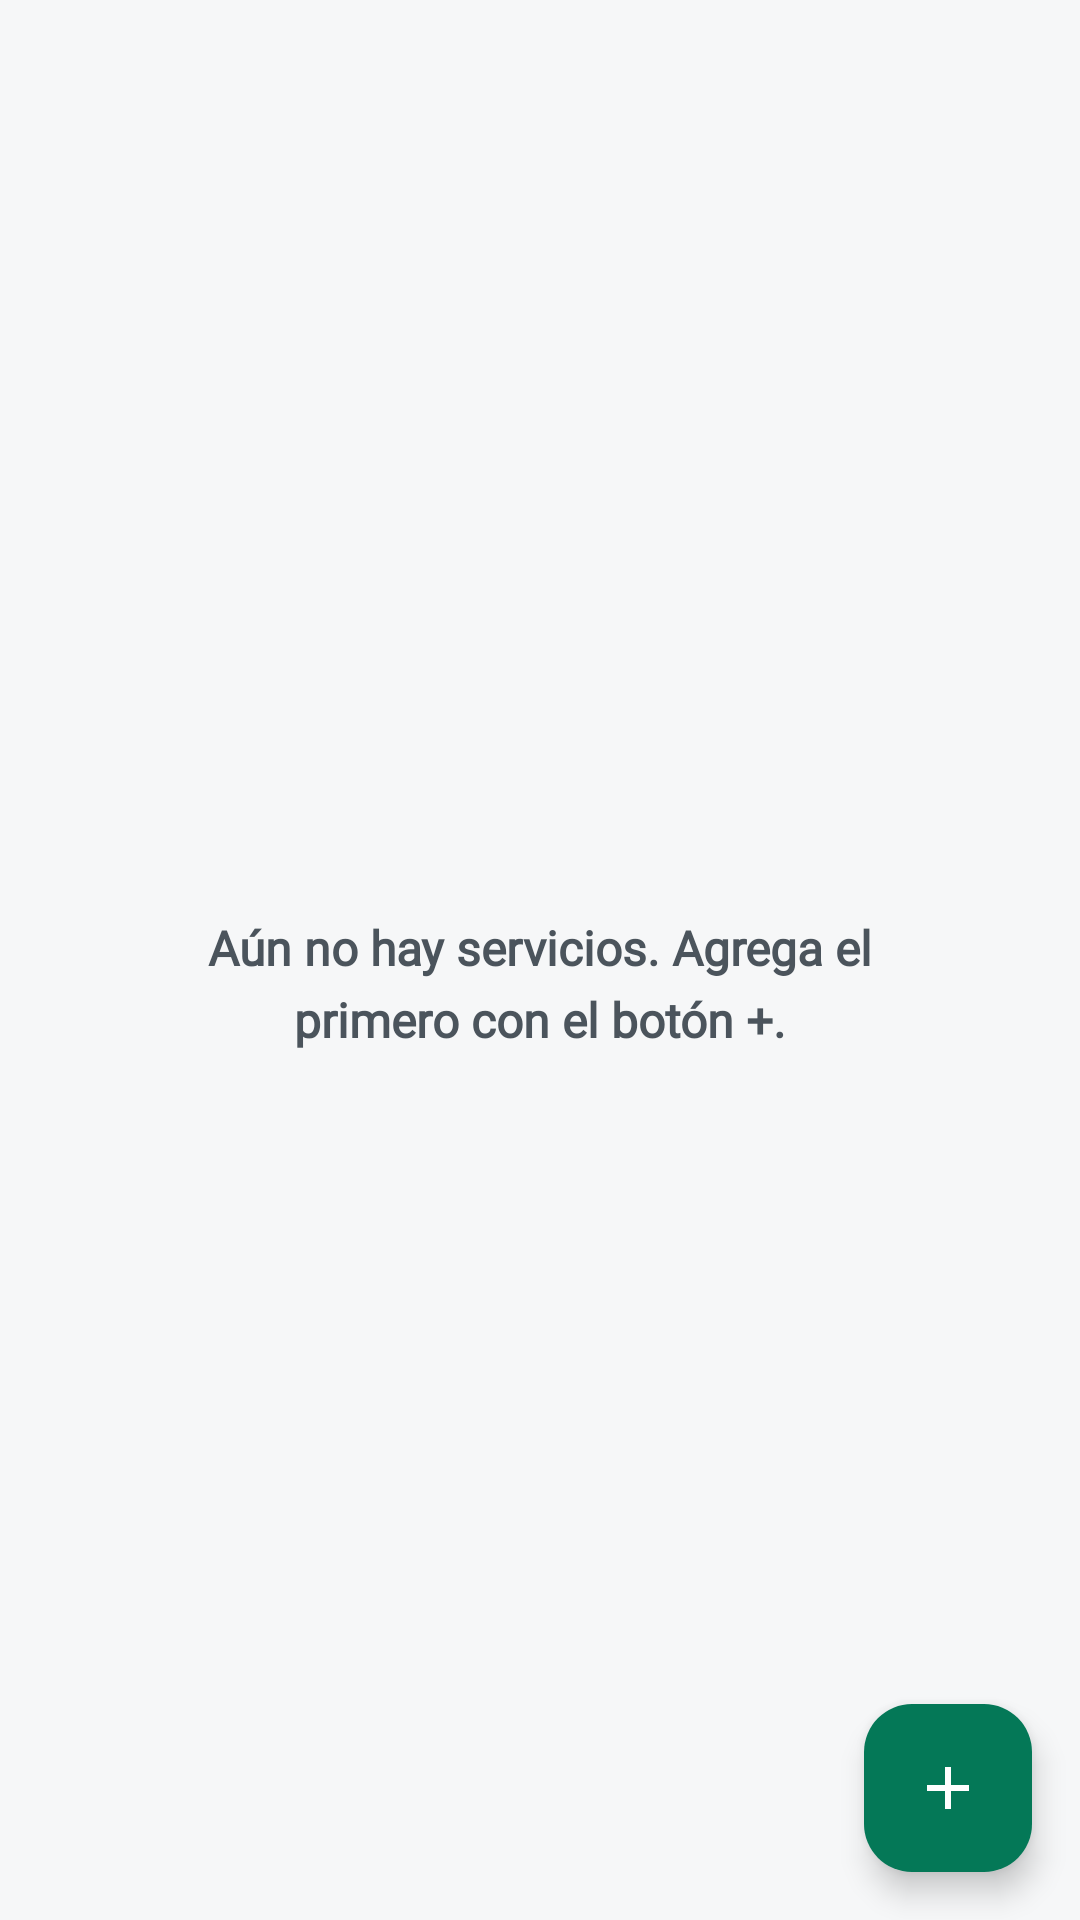

Where icons sit on this 1080*1920 app screen, as box=[x1, y1, x2, y2]:
Agregar servicio: box=[864, 1704, 1032, 1872]
